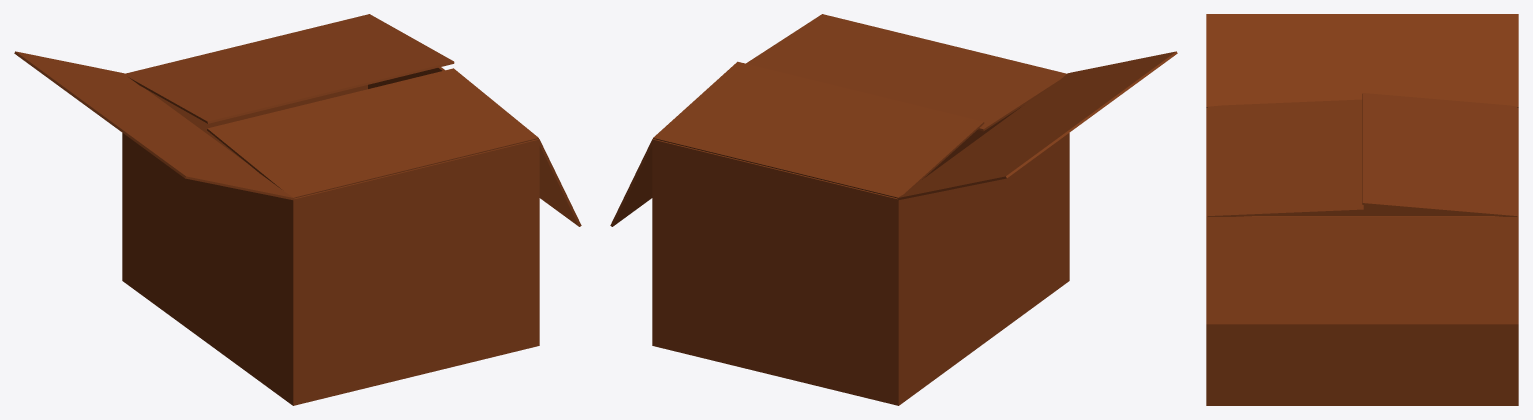
3 renders of one model, left to right at view 1: azimuth 30°, elevation 25°; view 2: azimuth 150°, elevation 25°; view 3: azimuth 270°, elevation 25°, orthographic. The views are drawn at different scales.
Parts seen in each view (by area): view 1: Объект_Полигон, Куб_4, Куб_3, Куб_2, Куб_1; view 2: Объект_Полигон, Куб_3, Куб_4, Куб_2, Куб_1; view 3: Куб_1, Куб_2, Объект_Полигон, Куб_3, Куб_4.
Part boxes in pixels (x1,y1,x2,y2): Объект_Полигон: (122, 67, 539, 405); Куб_4: (207, 68, 538, 198); Куб_3: (125, 14, 454, 123); Куб_2: (14, 51, 294, 199); Куб_1: (440, 67, 581, 226); Объект_Полигон: (652, 107, 1069, 405); Куб_3: (653, 61, 984, 198); Куб_4: (746, 14, 1066, 131); Куб_2: (897, 51, 1177, 200); Куб_1: (610, 138, 653, 226); Куб_1: (1206, 216, 1518, 324); Куб_2: (1206, 14, 1518, 107); Объект_Полигон: (1206, 107, 1518, 405); Куб_3: (1362, 93, 1517, 216); Куб_4: (1207, 99, 1363, 216).
Bounding box in the file's own units: 80.48 × 49.57 × 60.
